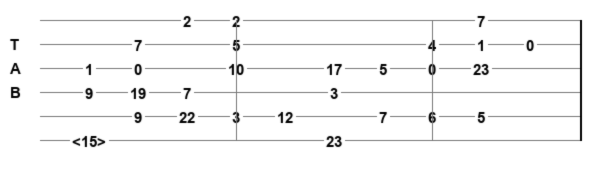0: (134, 61, 146, 76), (428, 61, 440, 76), (526, 37, 538, 52)
1: (85, 61, 97, 76), (477, 37, 489, 52)
10: (228, 61, 248, 76)
12: (277, 109, 297, 124)
17: (326, 61, 346, 76)
19: (130, 85, 150, 100)
2: (183, 13, 195, 28), (232, 13, 244, 28)
22: (179, 109, 199, 124)
23: (326, 133, 346, 148), (473, 61, 493, 76)
3: (232, 109, 244, 124), (330, 85, 342, 100)
4: (428, 37, 440, 52)
5: (232, 37, 244, 52), (379, 61, 391, 76), (477, 109, 489, 124)
6: (428, 109, 440, 124)
7: (134, 37, 146, 52), (183, 85, 195, 100), (379, 109, 391, 124), (477, 13, 489, 28)
9: (85, 85, 97, 100), (134, 109, 146, 124)
harmonic: (72, 133, 110, 148)
